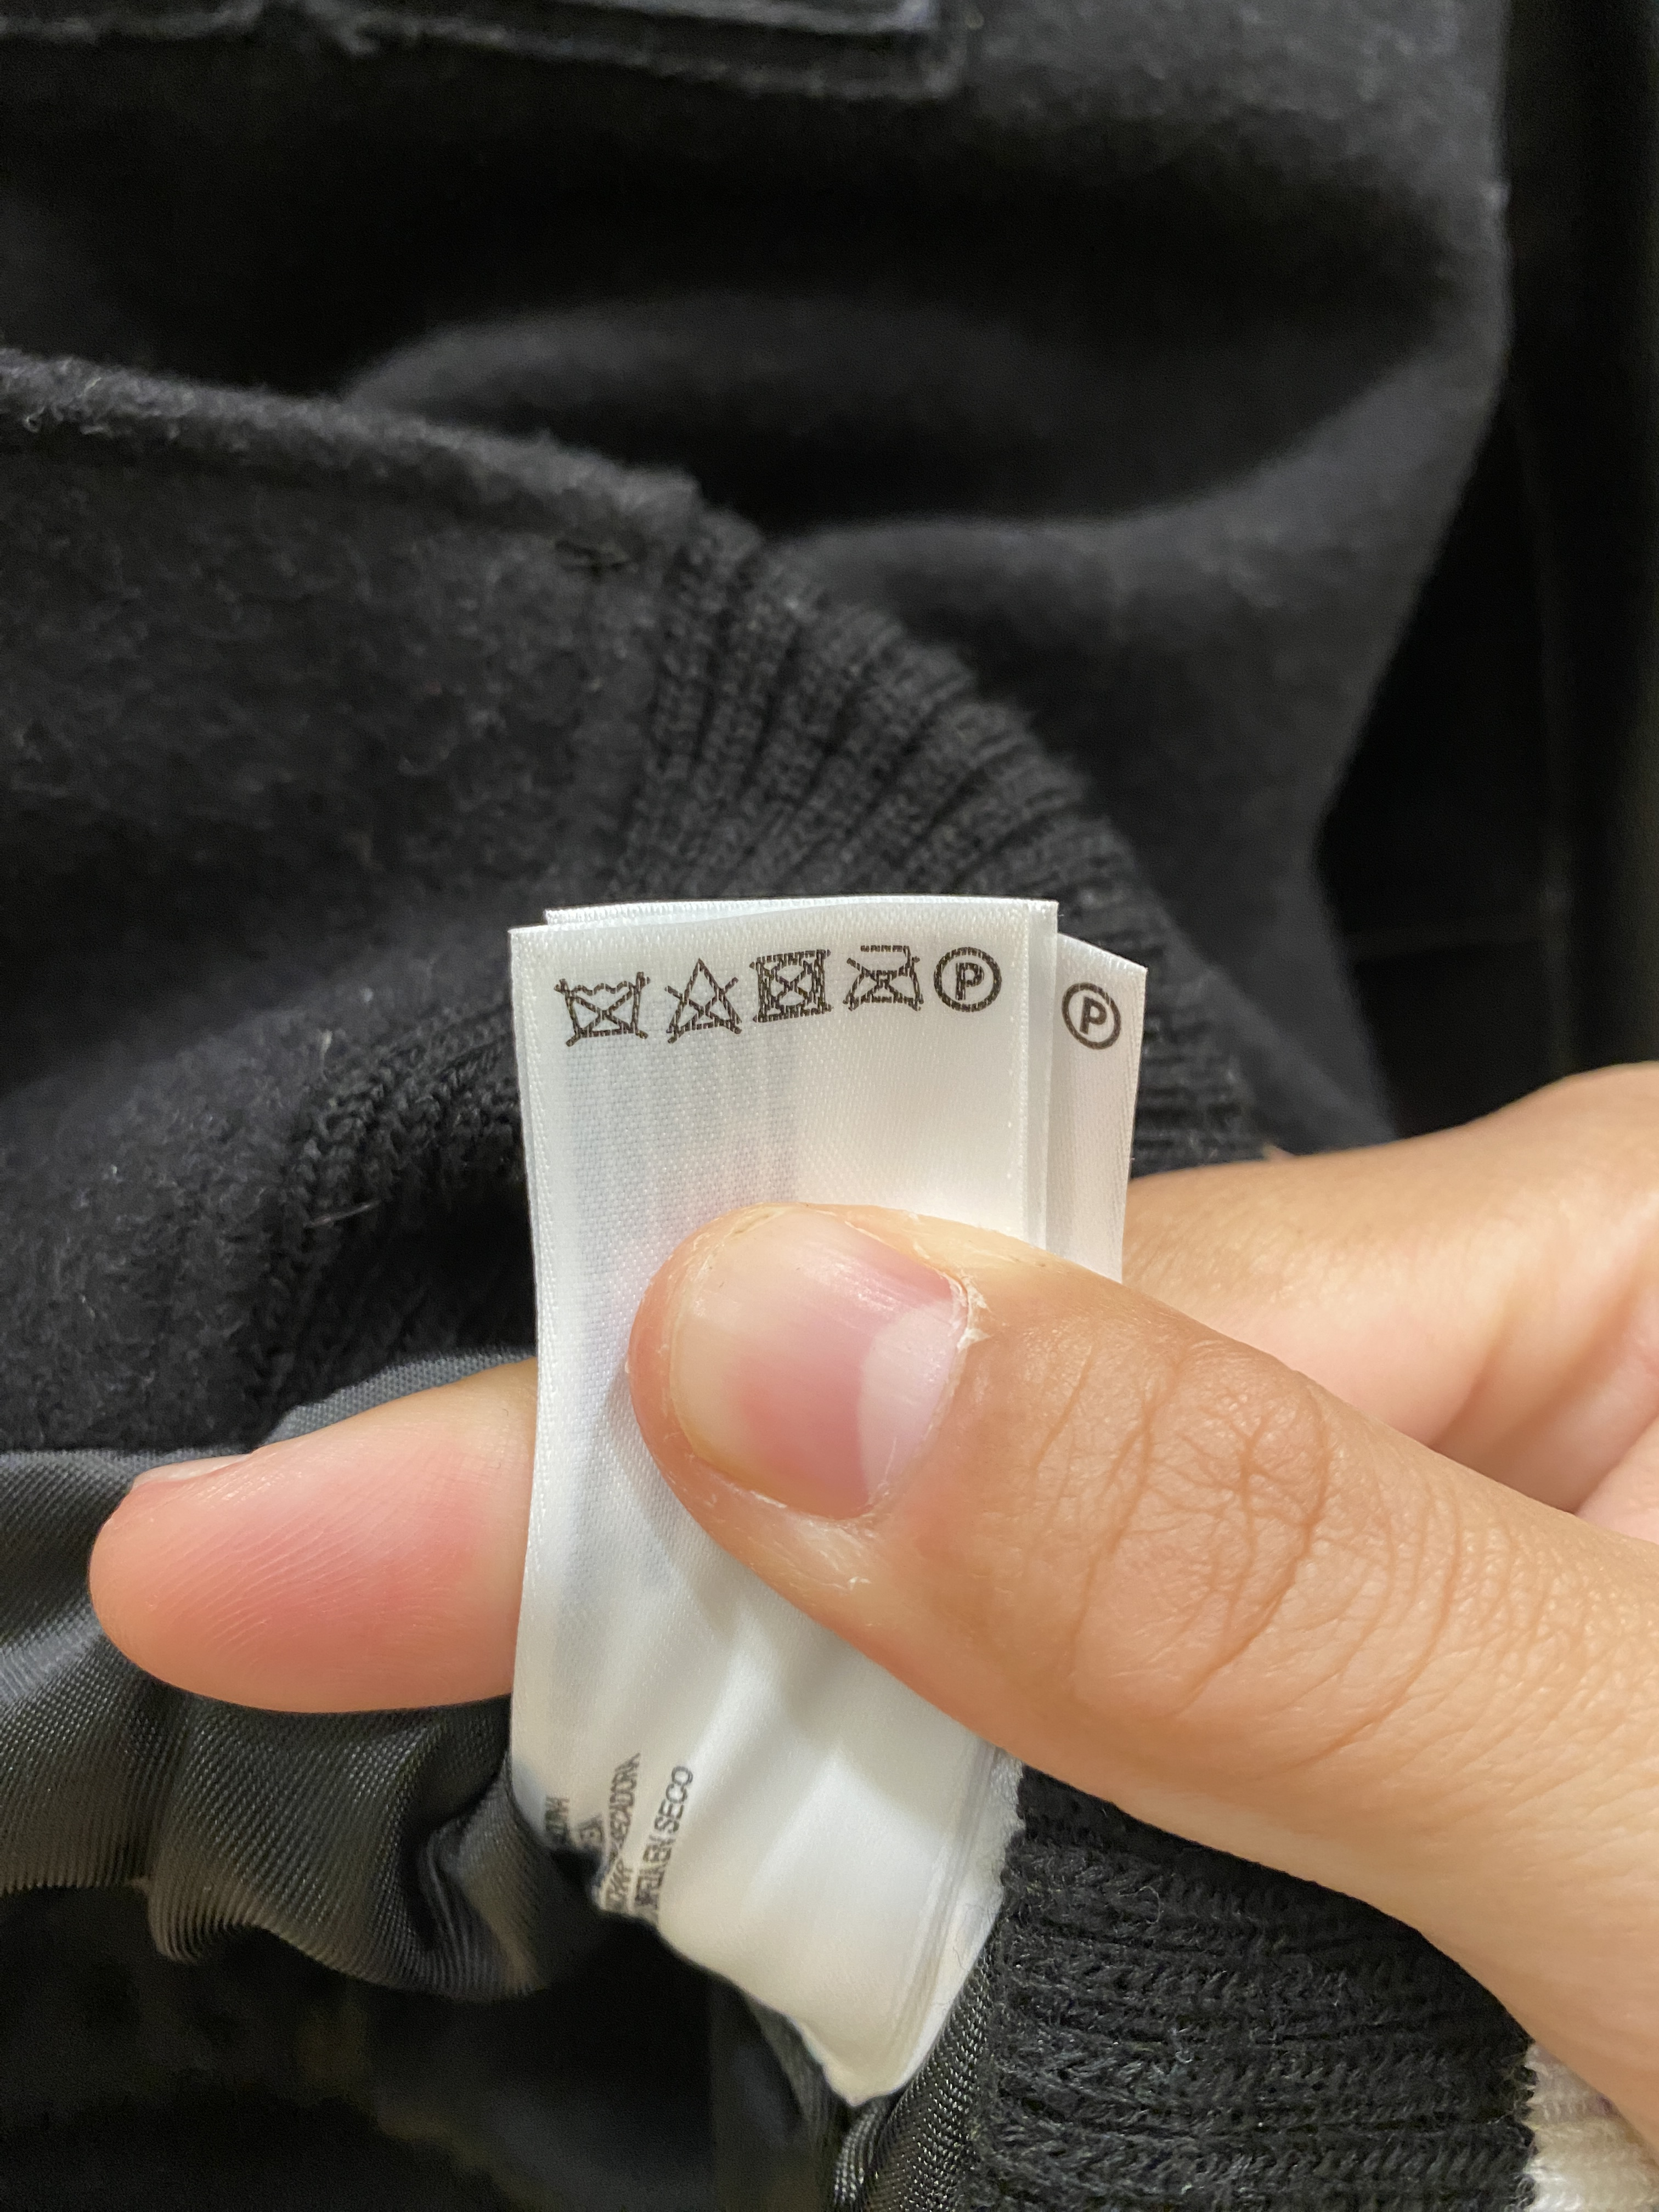icon: (547, 972, 657, 1047), (664, 951, 749, 1042), (744, 946, 838, 1026), (835, 939, 925, 1017), (927, 946, 1007, 1012), (1056, 982, 1124, 1049)
